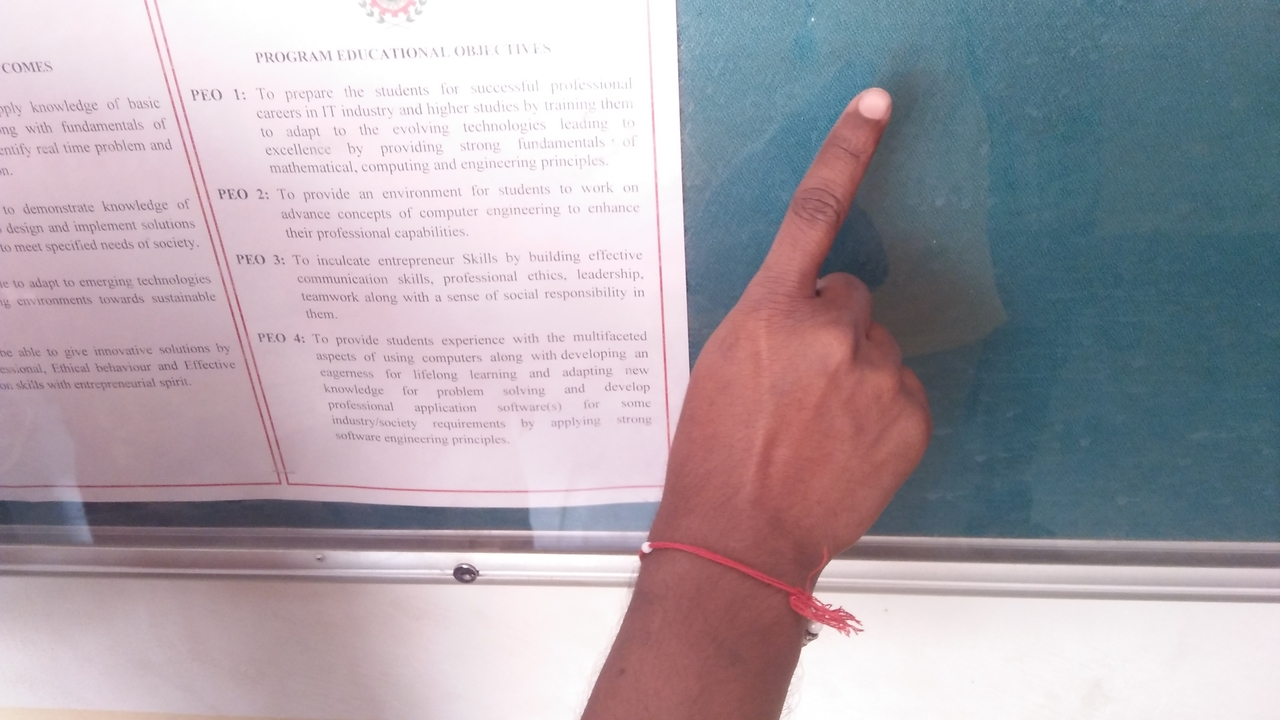fingertip: (844, 80, 904, 128)
